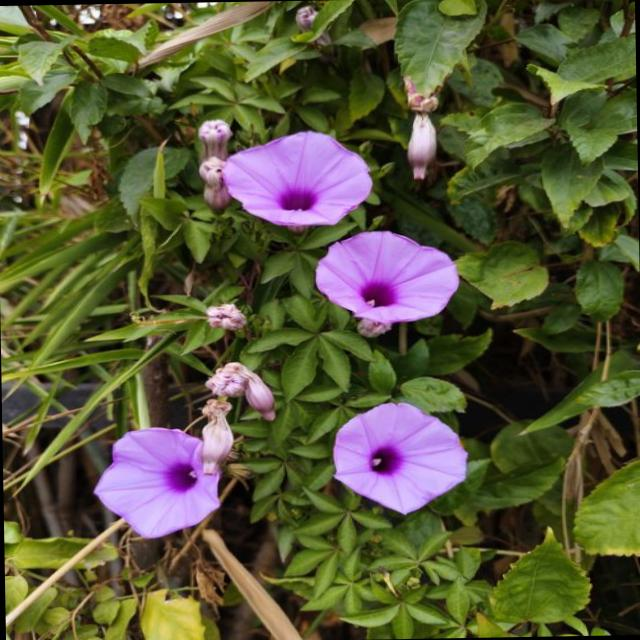ipomoea: (84, 112, 478, 541), (327, 398, 472, 518), (217, 127, 376, 234), (88, 423, 226, 542), (310, 226, 462, 332)
